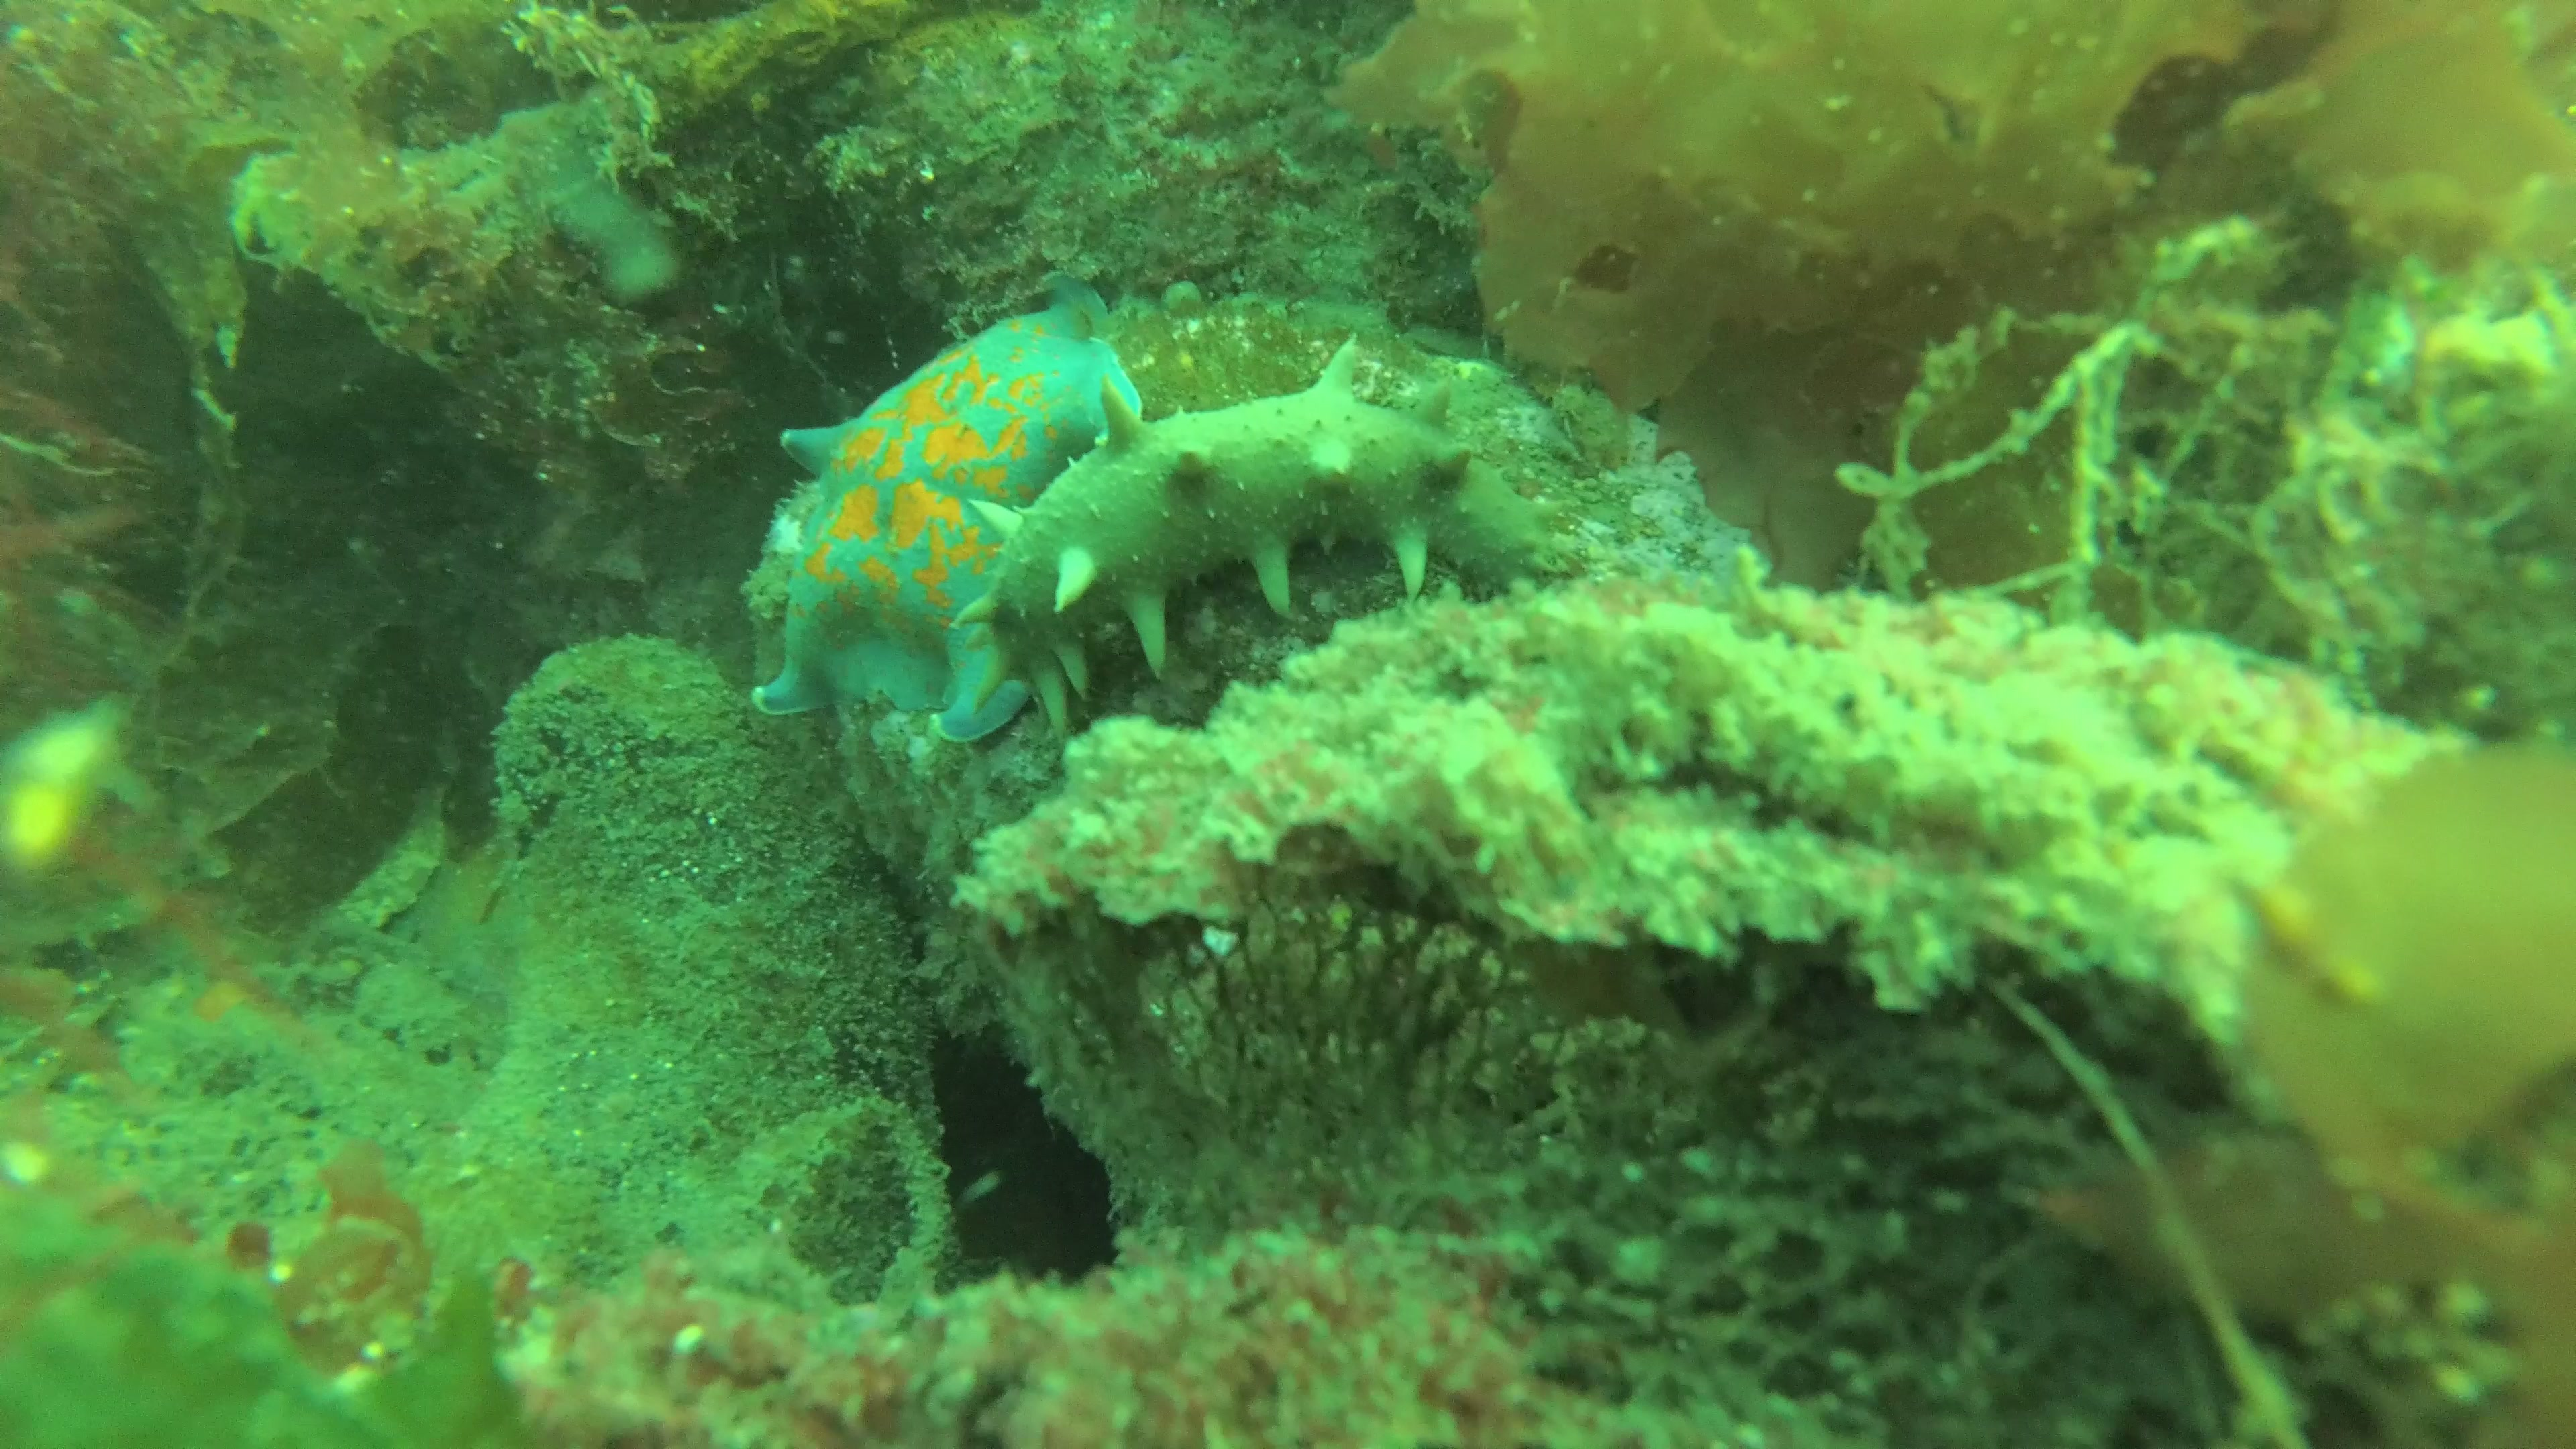holothurian: (952, 338, 1562, 747)
starfish: (750, 280, 1157, 747)
